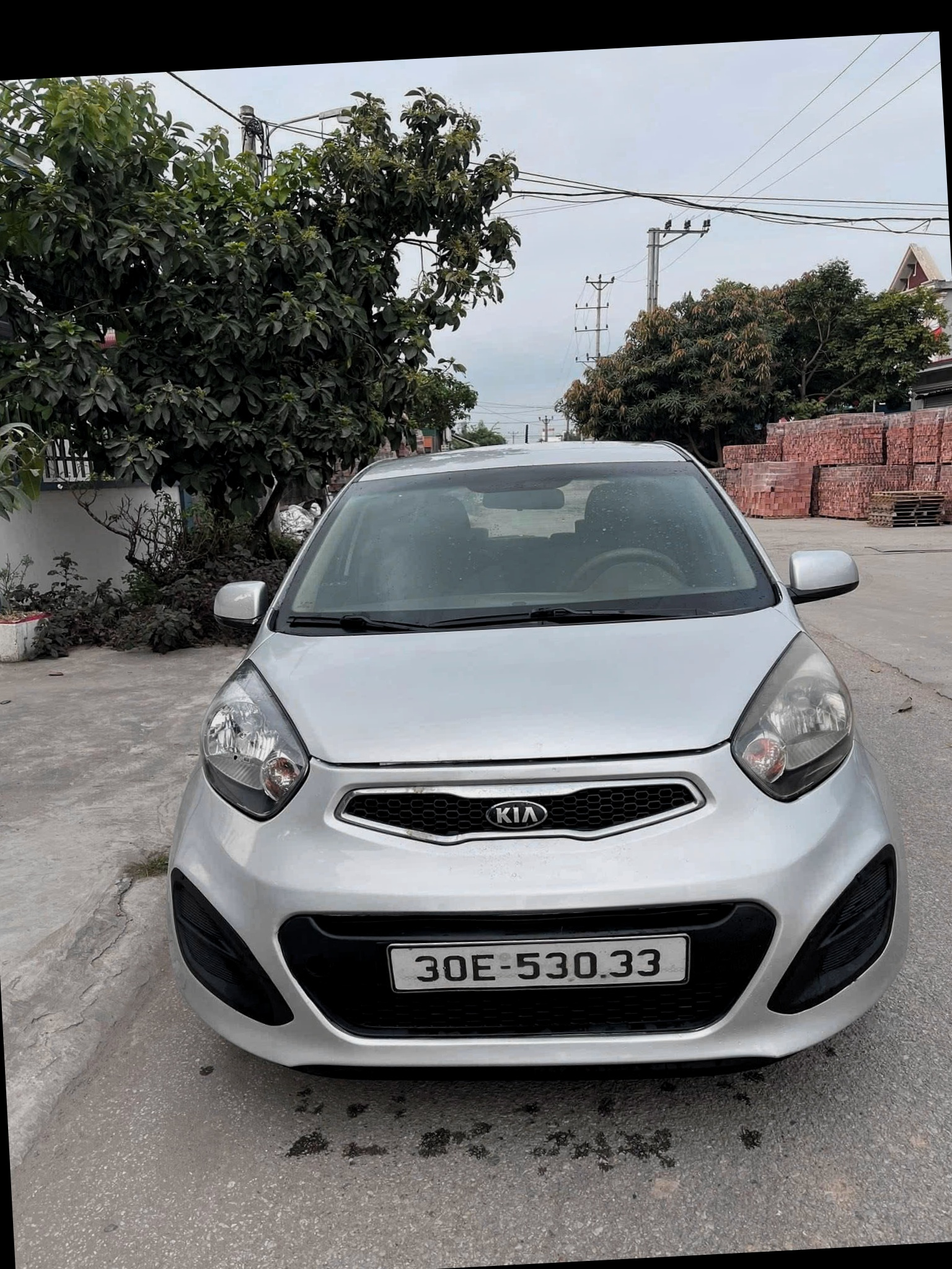Bien-so: (387, 930, 683, 997)
